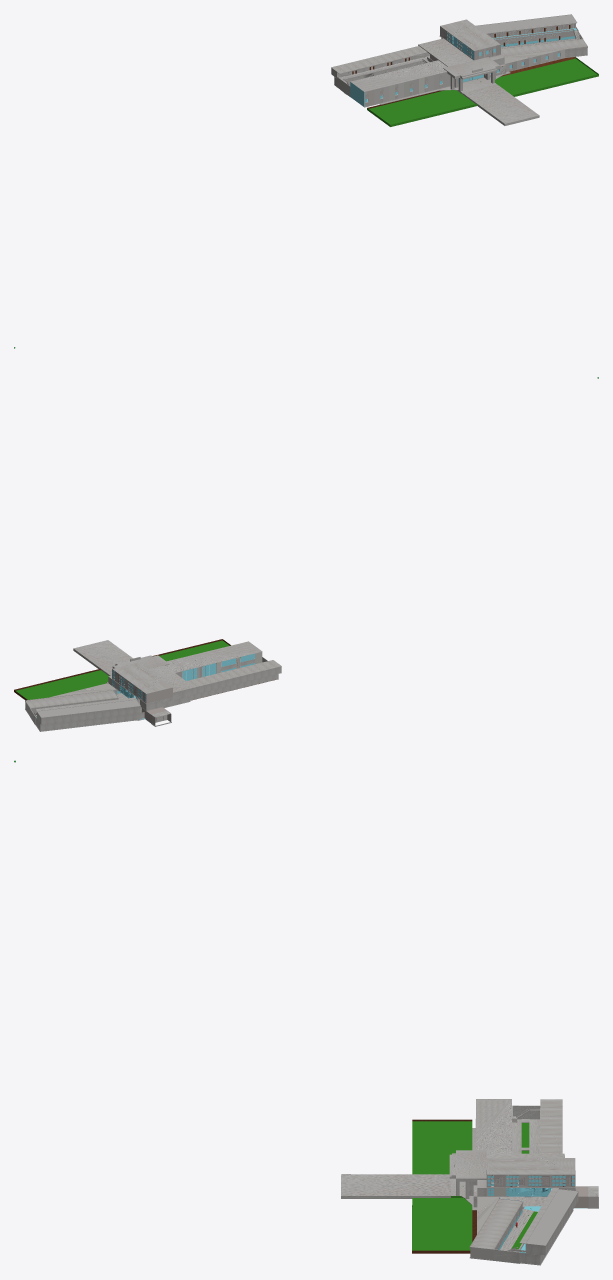
Rendered from DepartementIA2.gltf.
3 views of the same model, one above another, from view 1: azimuth 30°, elevation 25°; view 2: azimuth 210°, elevation 25°; view 3: azimuth 270°, elevation 25° (orthographic). The views are drawn at different scales.
Parts seen in each view (by area): view 1: building_134.005, Cube.218, Plane.031, Plane.038, building_008.010, building_048.040, building_008.012, Cube.221, Plane.035, building_131.003, building_004.010, Cube.220 (+1 smaller); view 2: building_134.005, building_008.008, Plane.038, Plane.001, Cube.218, building_008.010, building_048.040, Plane.035, building_004.010, building_048.039, Cube.221, Plane.031; view 3: building_134.005, Cube.218, Plane.038, building_008.010, building_048.040, Plane.035, building_004.010, building_048.039, building_008.008, Cube.220.
Boxes of the visible parts, x1,y1,x2,y2 form: building_134.005: (367, 57, 598, 126); Cube.218: (462, 84, 539, 125); Plane.031: (355, 72, 450, 107); Plane.038: (350, 60, 447, 91); building_008.010: (475, 14, 577, 33); building_048.040: (440, 19, 500, 50); building_008.012: (487, 23, 575, 44); Cube.221: (418, 38, 473, 66); Plane.035: (331, 46, 427, 73); building_131.003: (504, 49, 564, 71); building_004.010: (501, 39, 586, 56); Cube.220: (449, 58, 496, 77); building_134.005: (16, 640, 240, 699); building_008.008: (33, 706, 140, 731); Plane.038: (165, 641, 262, 672); Plane.001: (190, 664, 281, 700); Cube.218: (73, 640, 132, 675); building_008.010: (35, 697, 140, 717); building_048.040: (112, 662, 172, 693); Plane.035: (186, 660, 281, 687); building_004.010: (25, 690, 117, 707); building_048.039: (112, 669, 173, 704); Cube.221: (148, 665, 194, 693); Plane.031: (175, 652, 262, 678); building_134.005: (412, 1121, 472, 1250); Cube.218: (341, 1174, 451, 1198); Plane.038: (475, 1099, 511, 1153); building_008.010: (519, 1188, 578, 1245); building_048.040: (486, 1158, 575, 1174); Plane.035: (540, 1099, 562, 1153); building_004.010: (470, 1199, 522, 1249); building_048.039: (486, 1170, 575, 1187); building_008.008: (507, 1192, 578, 1265); Cube.220: (451, 1153, 486, 1176).
Size of the model in its own units: 427 by 14.69 by 220.
Materials: 308 (308 with a texture image).
